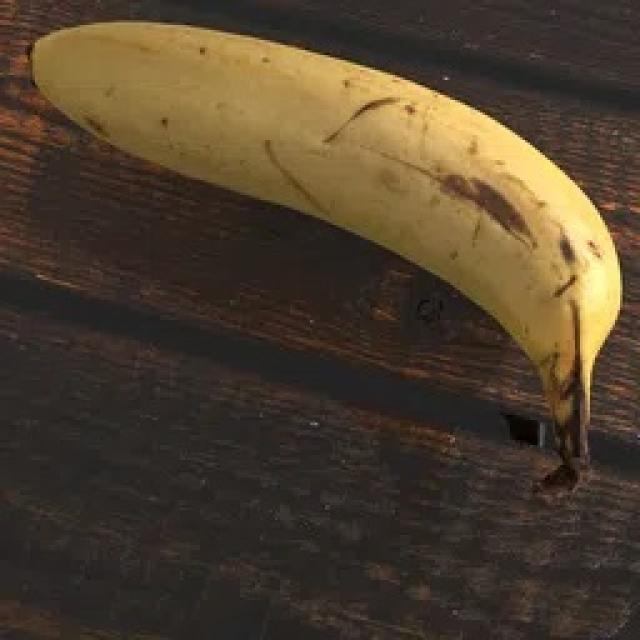banana: (27, 13, 629, 501)
